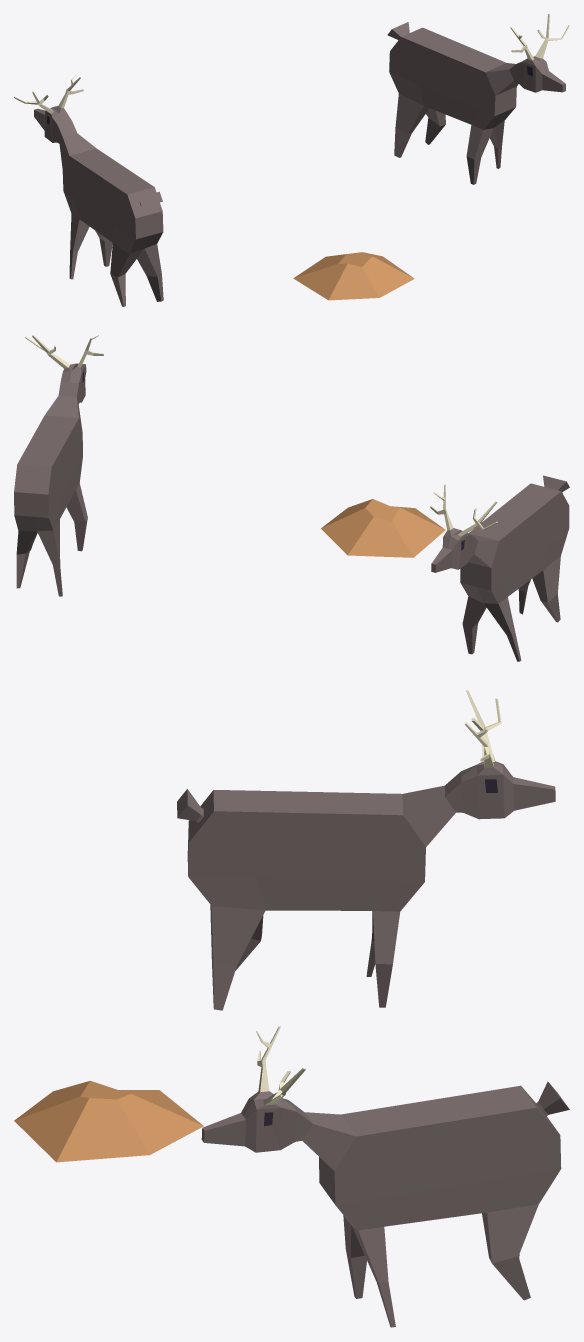
File: Deer-1.fbx
3 views of the same model, one above another, from view 1: azimuth 30°, elevation 25°; view 2: azimuth 150°, elevation 25°; view 3: azimuth 270°, elevation 25° (orthographic). The views are drawn at different scales.
Parts seen in each view (by area): view 1: Deer-1; view 2: Deer-1; view 3: Deer-1.
Part boxes in pixels (x1=…): Deer-1: x1=14, y1=14, x2=569, y2=306; Deer-1: x1=14, y1=335, x2=569, y2=661; Deer-1: x1=14, y1=690, x2=569, y2=1327.
Size of the model in its own units: 77.15 by 25.83 by 45.71.
